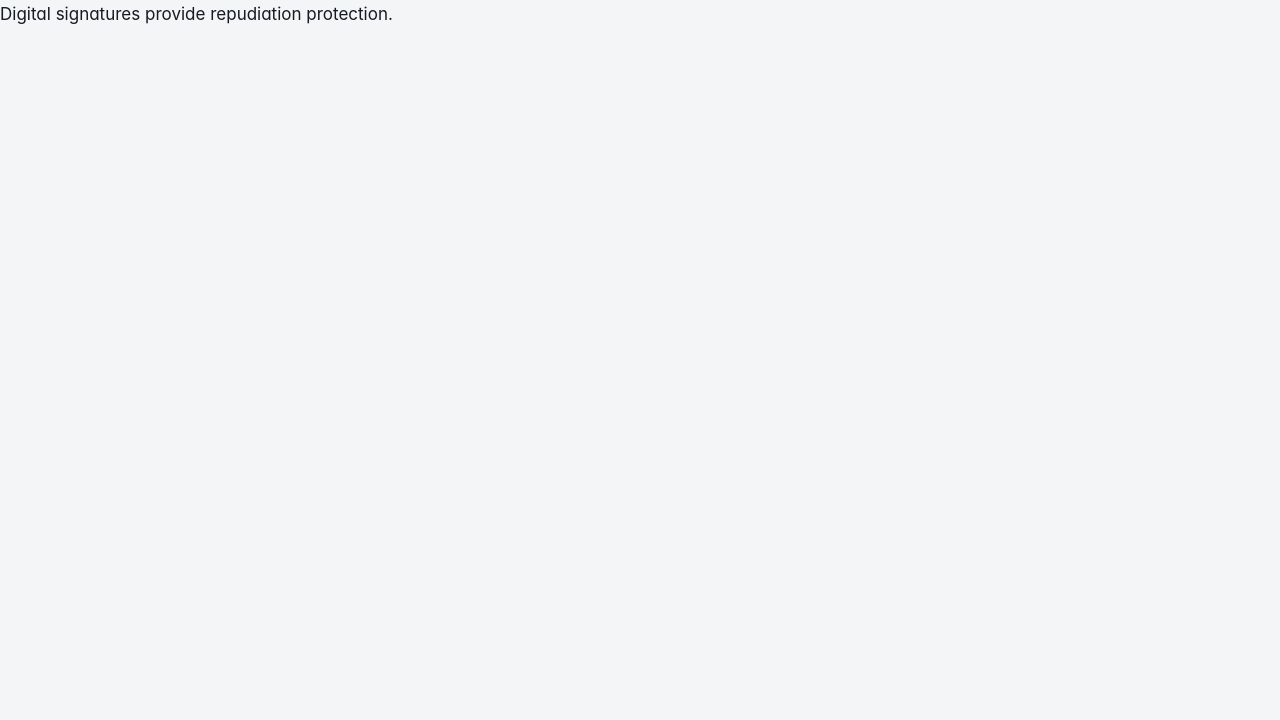
Test: glossary popover › explains the daily AI quota (429)
Click the button "repudiation": (256, 14) x1=210 y1=4 x2=302 y2=24
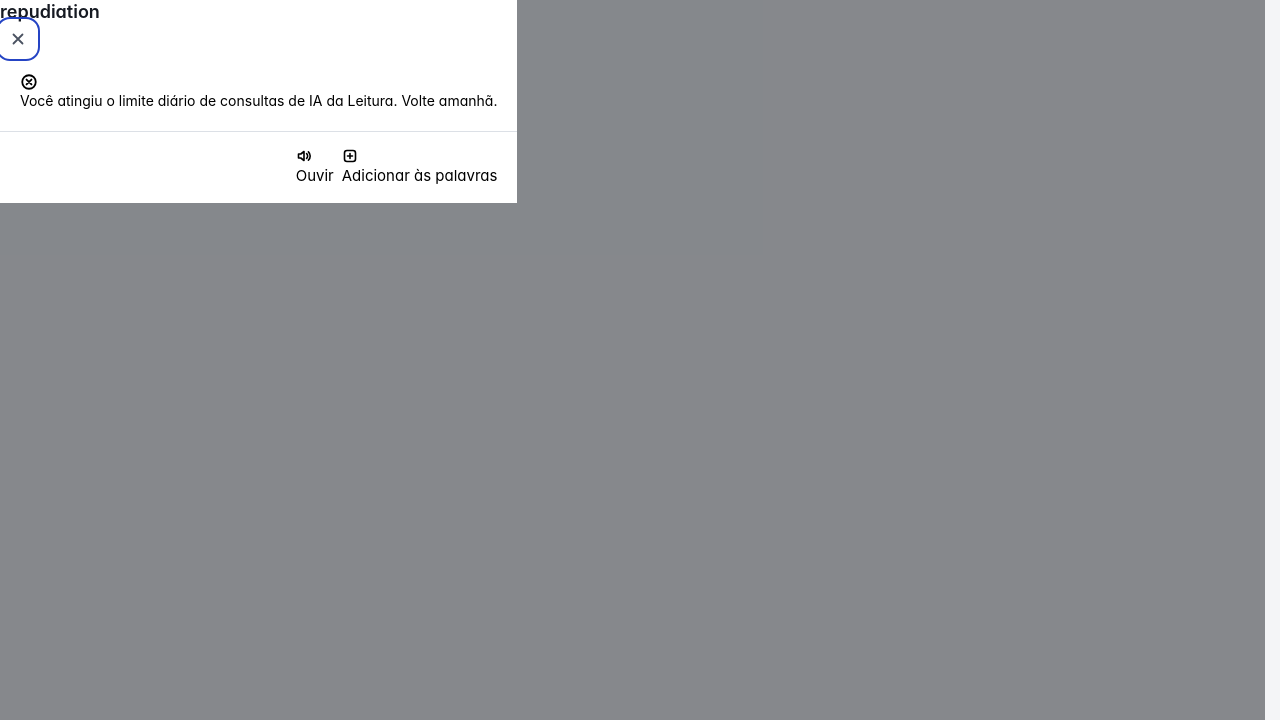
Result: the text "Você atingiu o limite diário de consultas de IA da Leitura. Volte amanhã." is shown at x1=20 y1=91 x2=497 y2=111
